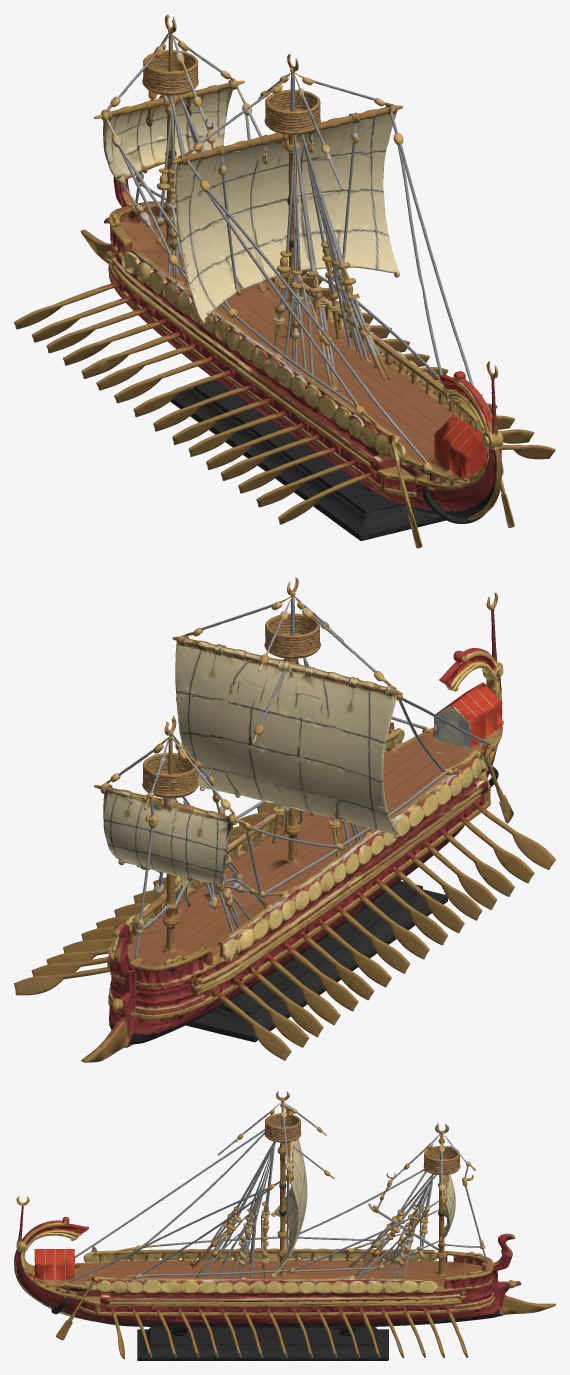
The model's file is Carthaginian_Warship.min.glb.
3 renders of one model, top to bottom at view 1: azimuth 30°, elevation 25°; view 2: azimuth 150°, elevation 25°; view 3: azimuth 270°, elevation 25°, orthographic. The views are drawn at different scales.
Parts seen in each view (by area): view 1: tripo_node_f03f7b4b-8572-44fd-9d82-41f150d127d4; view 2: tripo_node_f03f7b4b-8572-44fd-9d82-41f150d127d4; view 3: tripo_node_f03f7b4b-8572-44fd-9d82-41f150d127d4.
Part boxes in pixels (x1,y1,x2,y2): tripo_node_f03f7b4b-8572-44fd-9d82-41f150d127d4: (14, 14, 555, 548); tripo_node_f03f7b4b-8572-44fd-9d82-41f150d127d4: (14, 577, 555, 1062); tripo_node_f03f7b4b-8572-44fd-9d82-41f150d127d4: (14, 1091, 555, 1360).
Size of the model in its own units: 0.3781 by 0.511 by 0.9803.
Materials: 1 (1 with a texture image).
